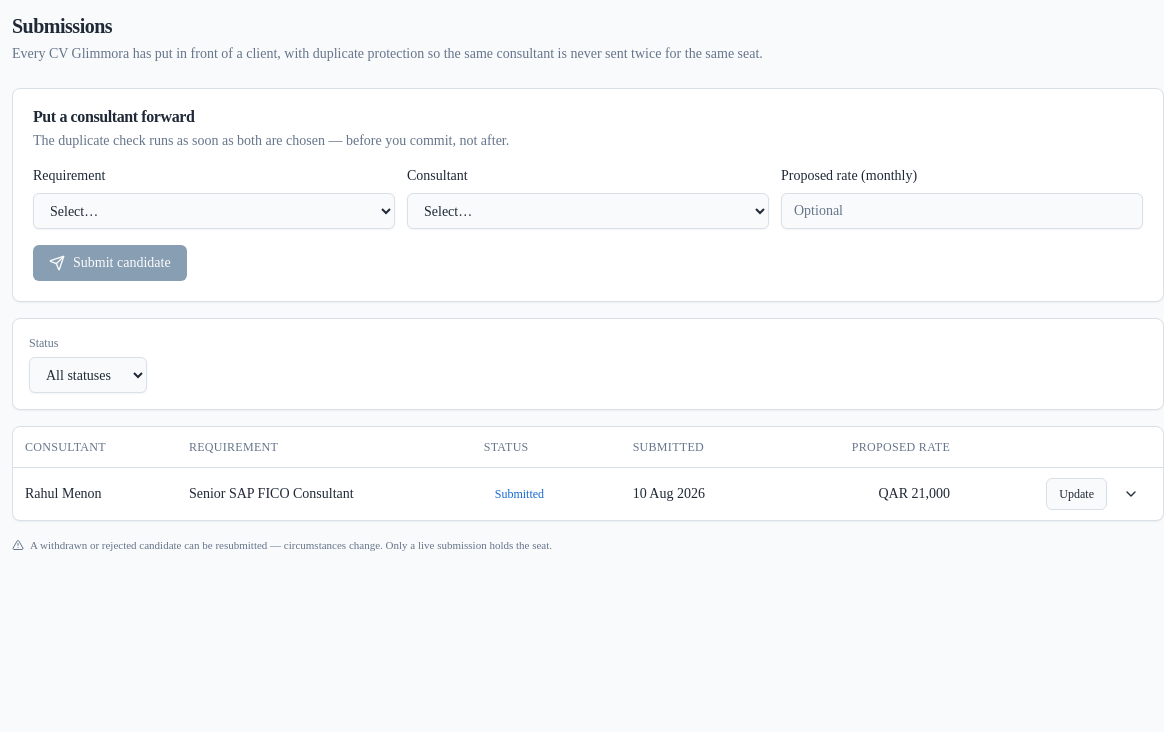
Test: submissions › warns about a duplicate before the user commits
Select "Senior SAP FICO Consultant" in the dropdown labelled "Requirement": (214, 211) 33,193 -> 395,229
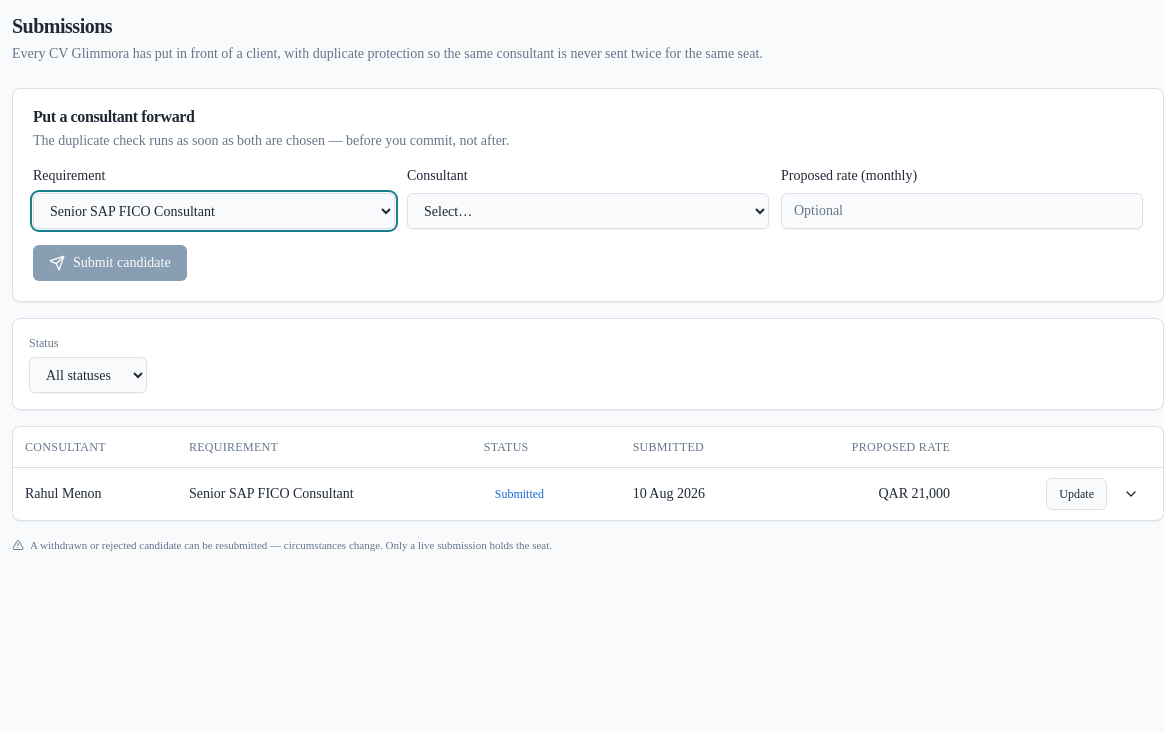
Select "Rahul Menon" in the dropdown labelled "Consultant": (588, 211) 407,193 -> 769,229
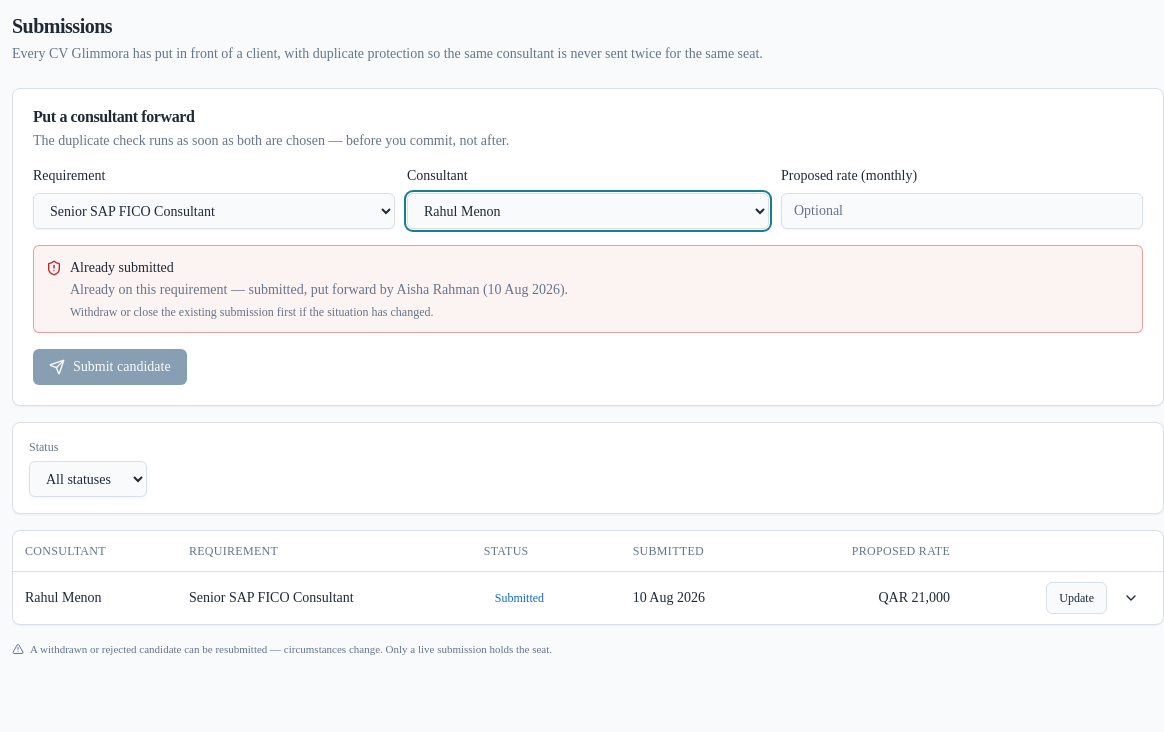
Result: the message is shown at 33,245 -> 1143,333
Result: the text "Already submitted" is shown at 70,260 -> 174,275
Result: the text "Aisha Rahman" is shown at 70,282 -> 568,297
